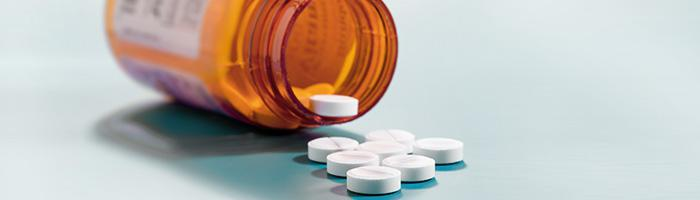tablet: (345, 165, 401, 196), (382, 153, 436, 182), (306, 135, 358, 162), (415, 136, 463, 165), (329, 151, 378, 176), (310, 94, 360, 118), (367, 130, 417, 151), (359, 141, 407, 159)
